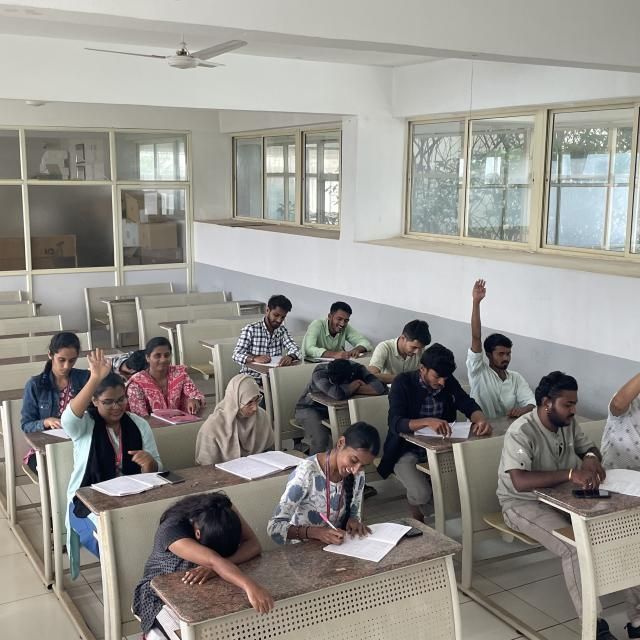Hand Rising: (61, 343, 172, 476), (464, 277, 532, 410)
Reading: (132, 325, 216, 417)
Sleeping: (127, 480, 273, 630), (292, 352, 385, 412)
Writing: (266, 416, 412, 553), (389, 341, 482, 448), (199, 366, 286, 465), (232, 292, 305, 371), (304, 298, 374, 364), (366, 319, 434, 380)
